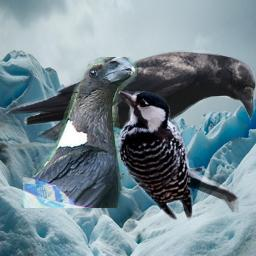Crow: (5, 50, 256, 174), (23, 57, 137, 208)
Woodpecker: (112, 86, 239, 220)
